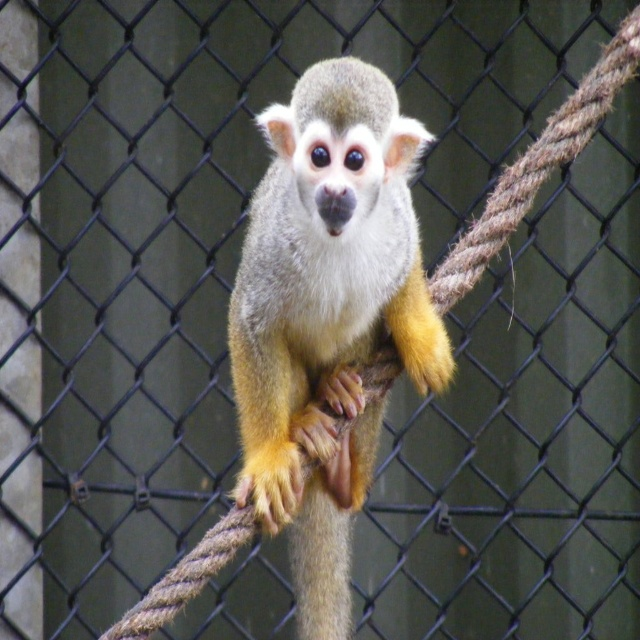Monkey: (224, 54, 461, 640)
